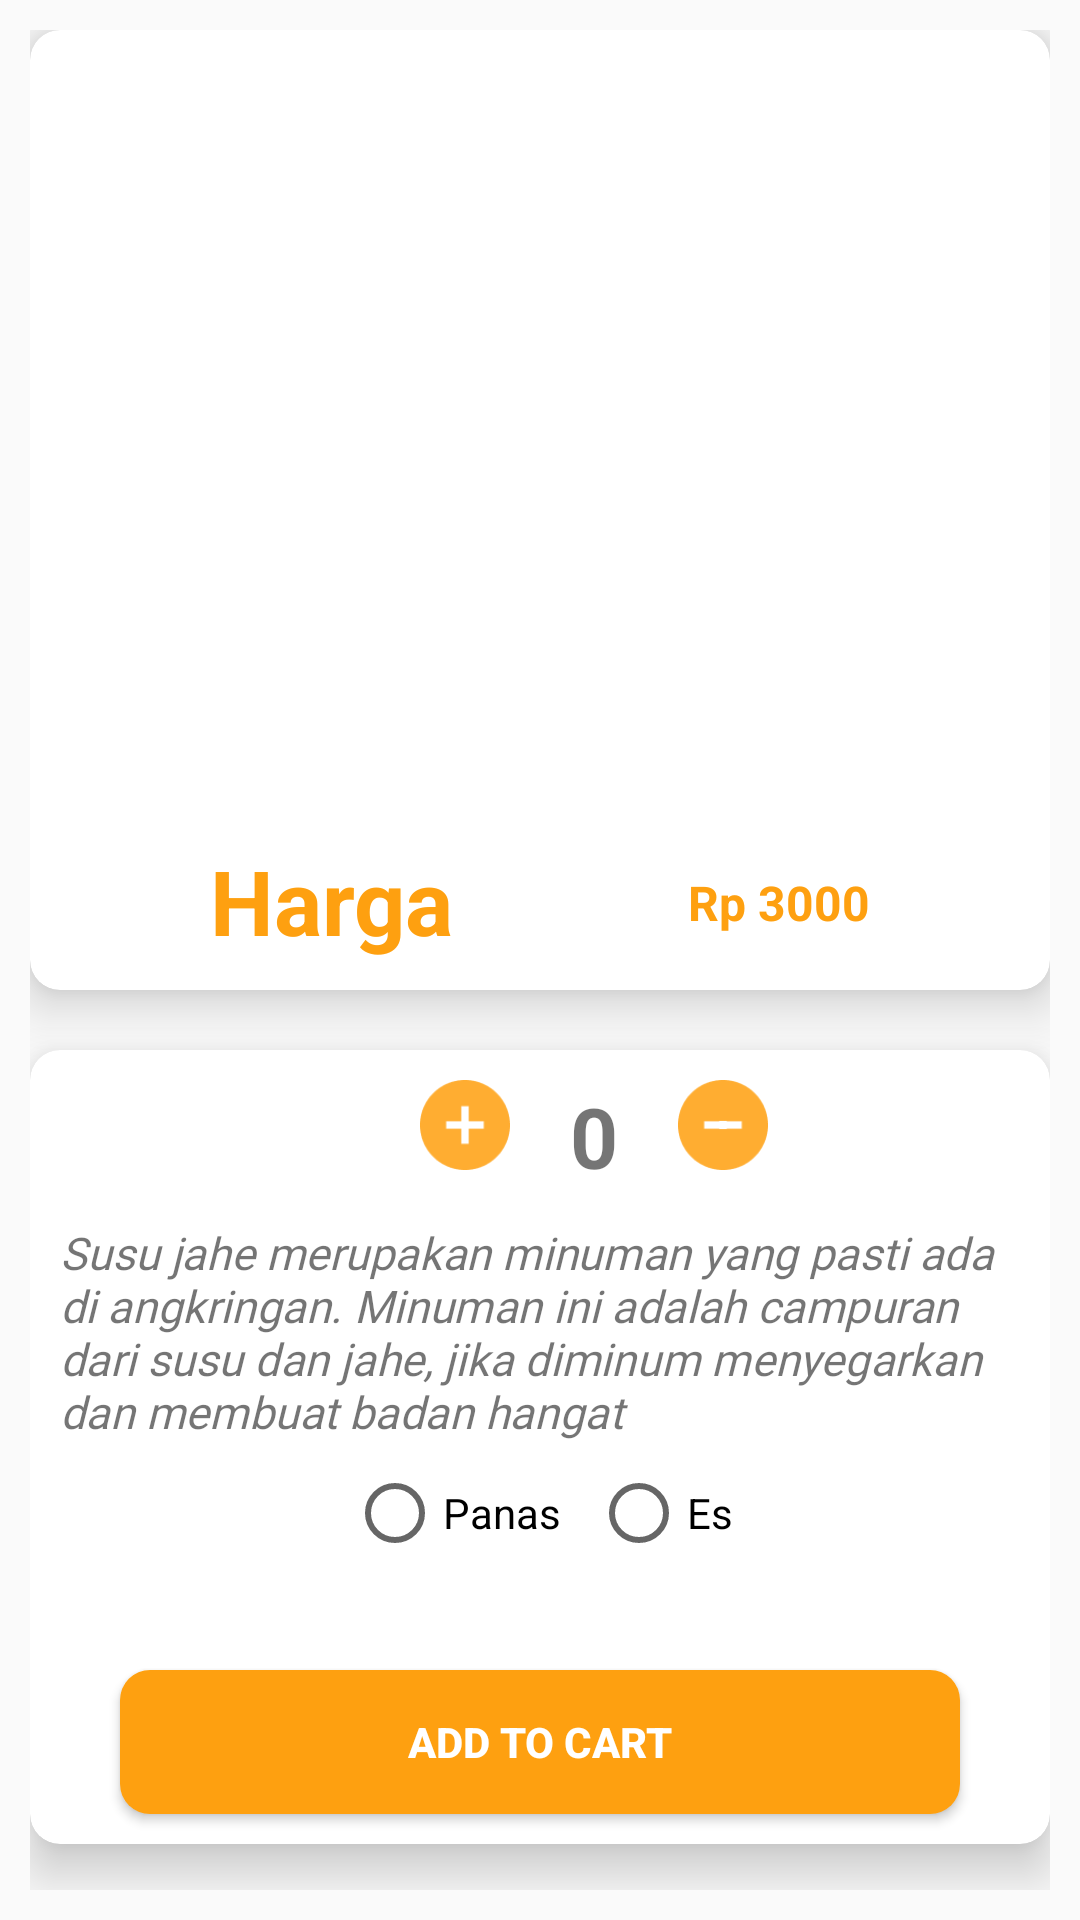

Icons on this 1080*1920 Android screen, each with the point to tap as point (x, y):
minus: point (723, 1125)
plus: point (465, 1125)
